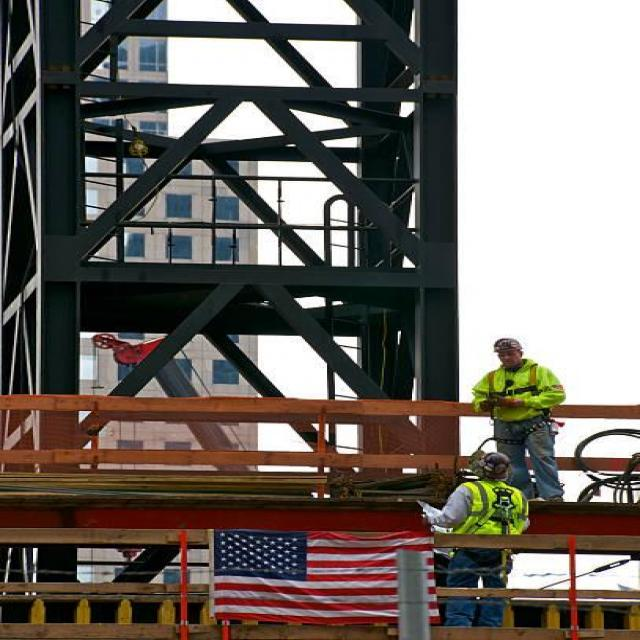belt: (460, 481, 520, 572), (490, 363, 550, 448)
